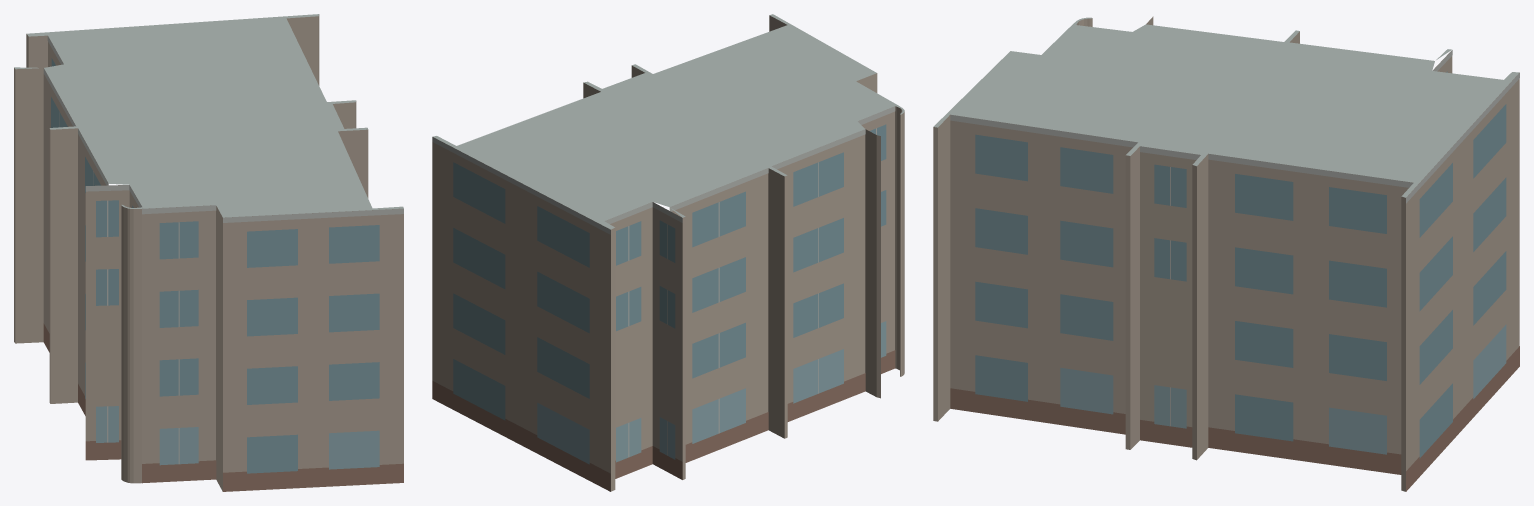
Rendered from survey-upis-32524993.glb.
3 renders of one model, left to right at view 1: azimuth 30°, elevation 25°; view 2: azimuth 150°, elevation 25°; view 3: azimuth 270°, elevation 25°, orthographic. The views are drawn at different scales.
Visible parts, largest first — view 1: survey-upis-32524993.tmp; view 2: survey-upis-32524993.tmp; view 3: survey-upis-32524993.tmp.
Boxes of the visible parts, <box> form: survey-upis-32524993.tmp: <box>14,14,403,491</box>; survey-upis-32524993.tmp: <box>432,14,904,491</box>; survey-upis-32524993.tmp: <box>933,16,1519,491</box>.
Bounding box in the file's own units: 16.36 × 12.2 × 22.06.
